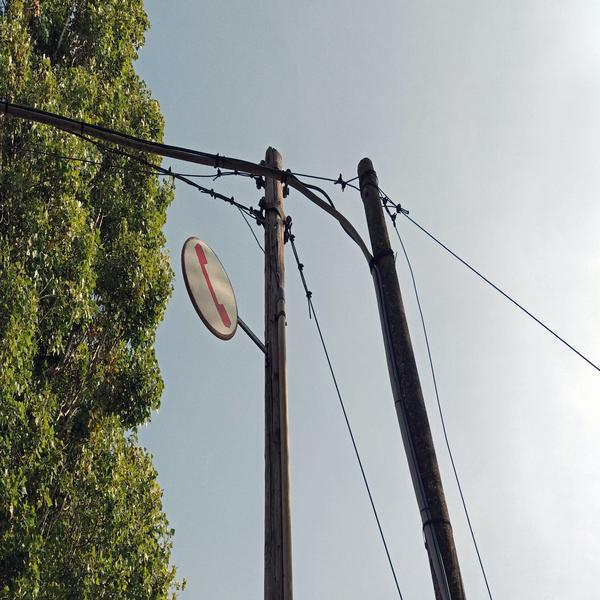utility_pole: (316, 134, 431, 292), (211, 128, 328, 272)
